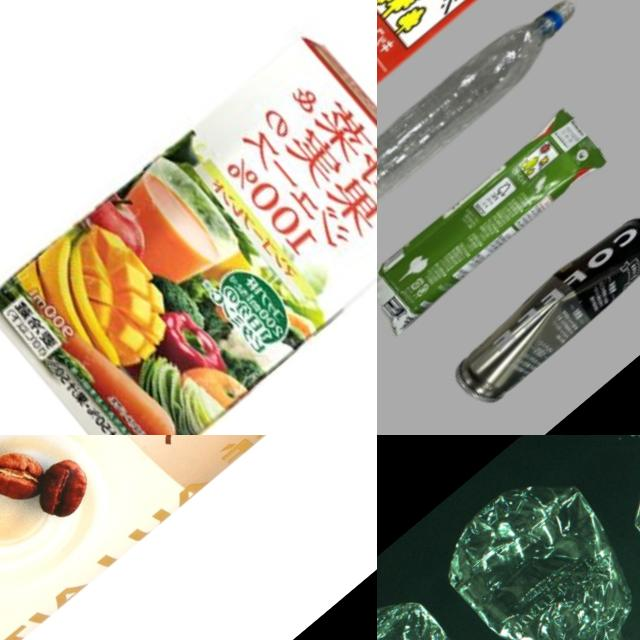Aluminium Foil: (0, 9, 377, 435), (377, 100, 615, 340), (377, 0, 551, 226)
Can: (0, 435, 377, 640), (442, 190, 640, 412)
Transparent Plastic Bottle: (377, 0, 595, 261), (428, 456, 640, 640), (546, 435, 640, 634), (377, 574, 579, 640)
